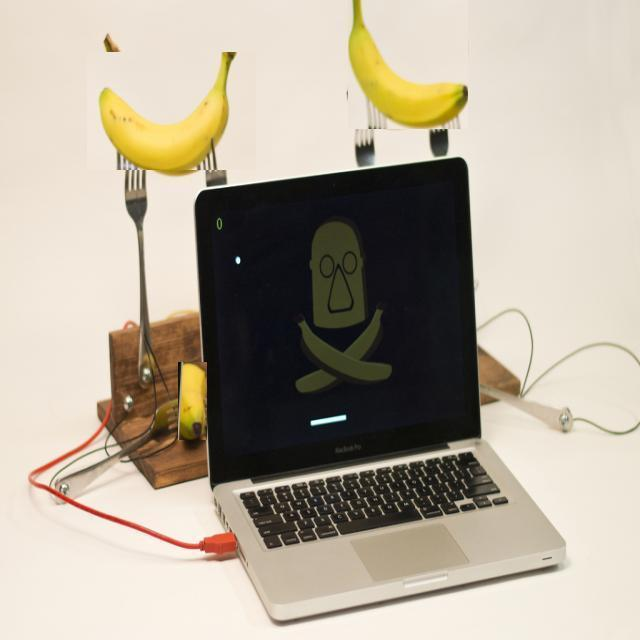Banana: (87, 52, 256, 170), (348, 0, 468, 129), (178, 362, 207, 440)
